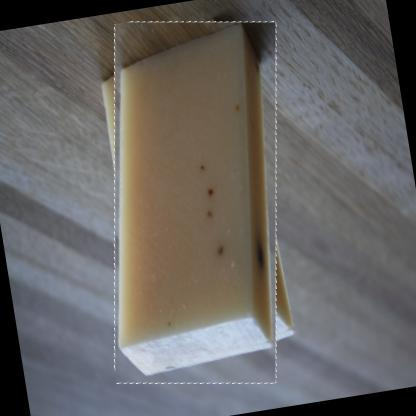soap: (74, 5, 318, 400)
